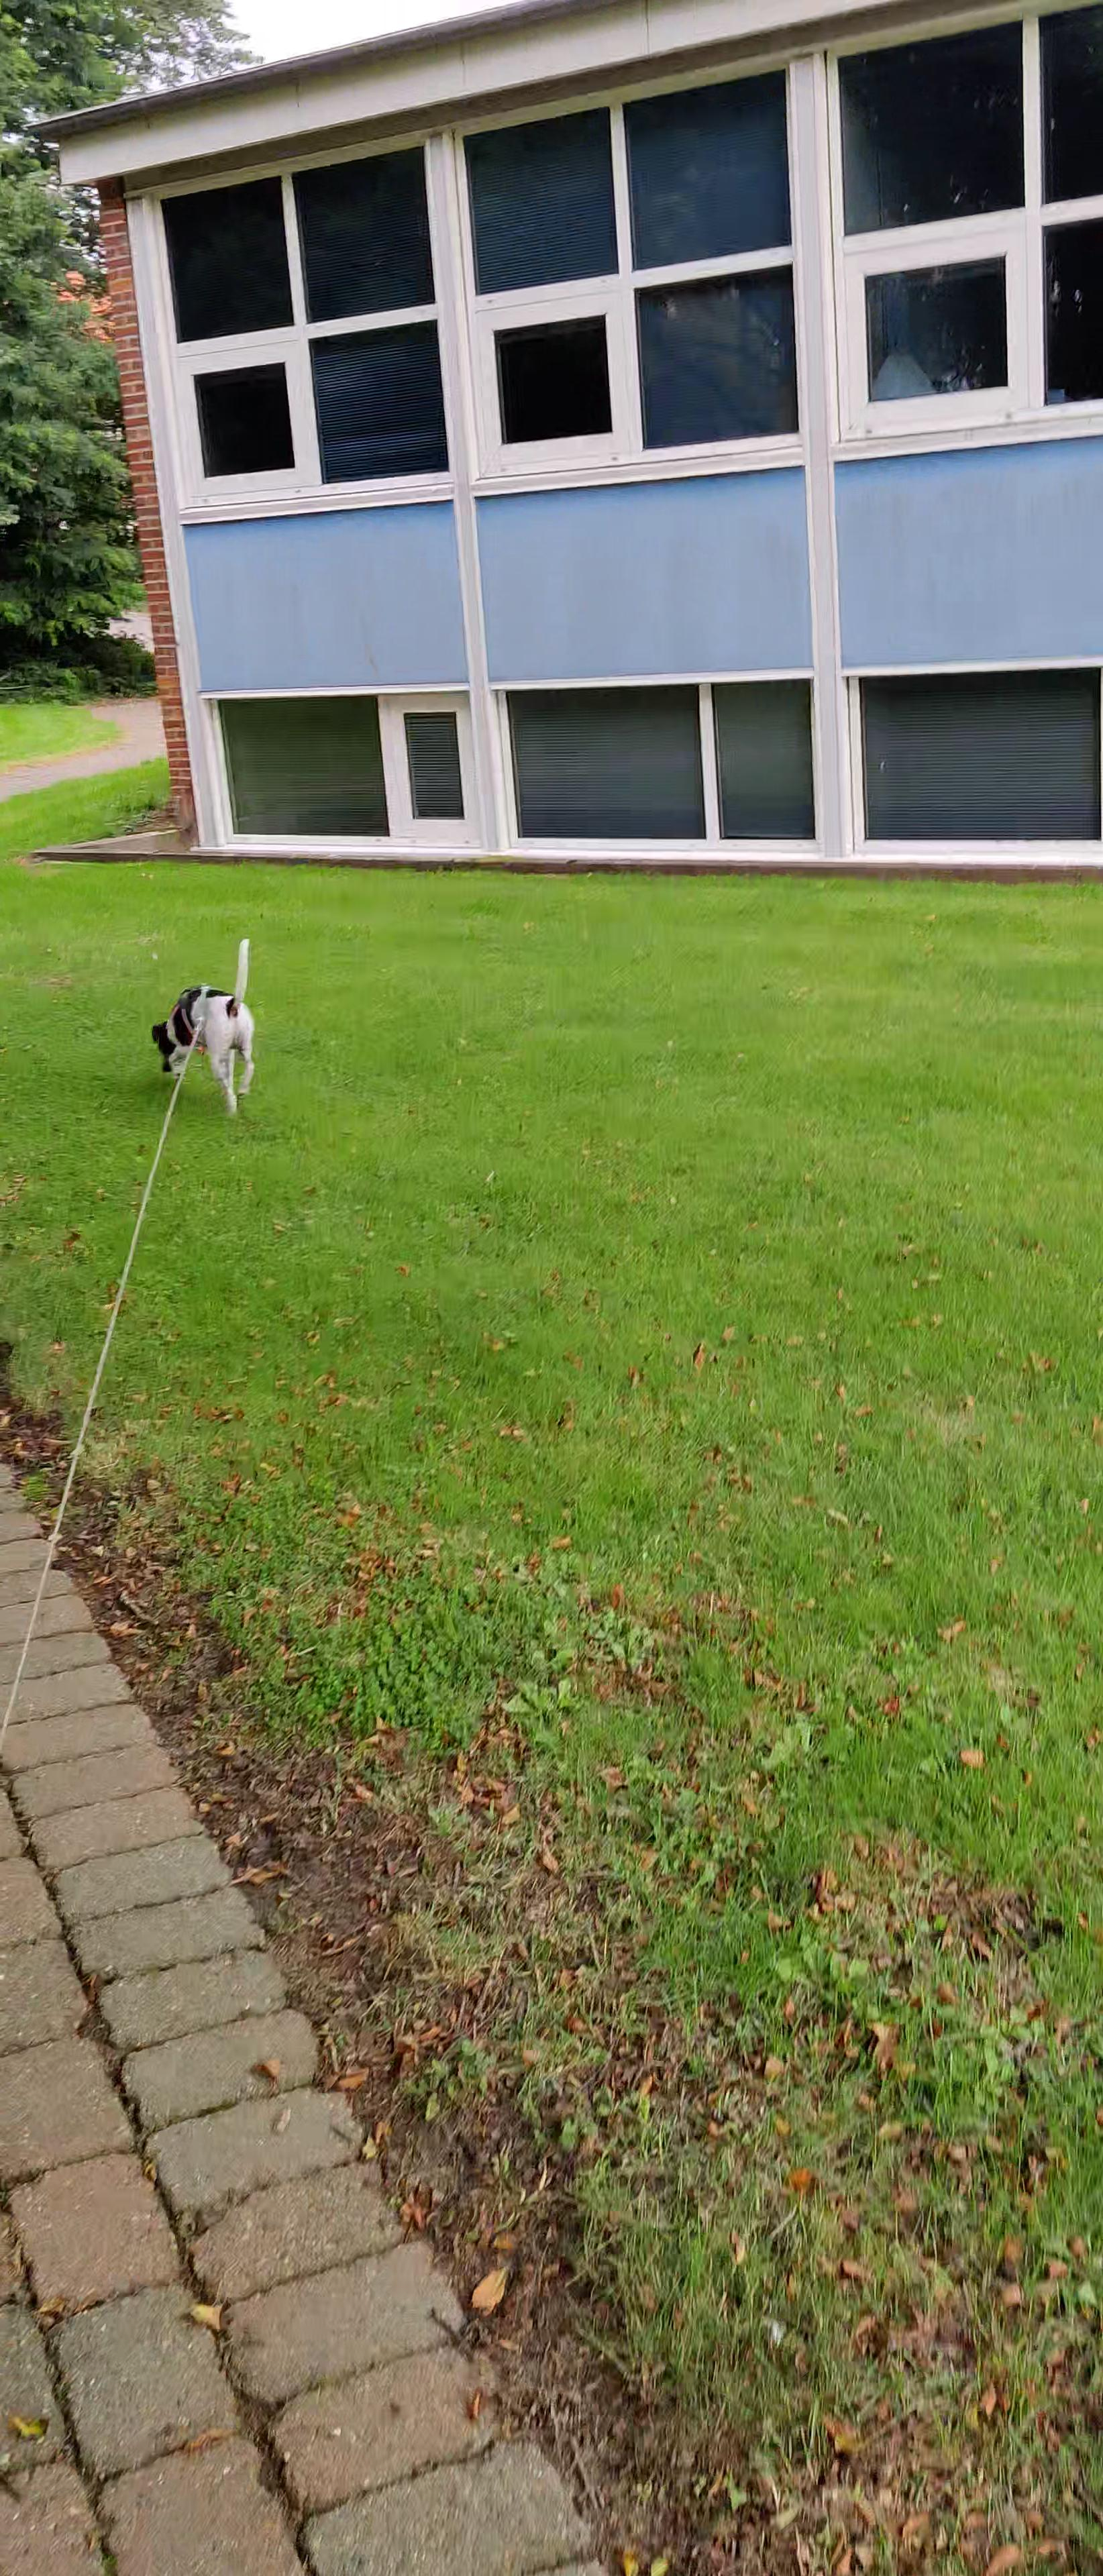Dog: (143, 930, 270, 1129)
